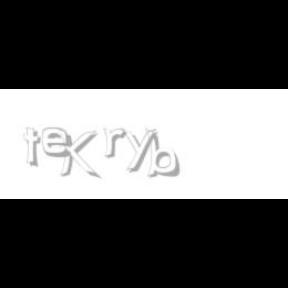K: (58, 128, 98, 180)
b: (145, 128, 183, 178)
e: (42, 128, 76, 158)
r: (102, 128, 130, 158)
t: (23, 128, 45, 168)
y: (121, 128, 161, 172)
